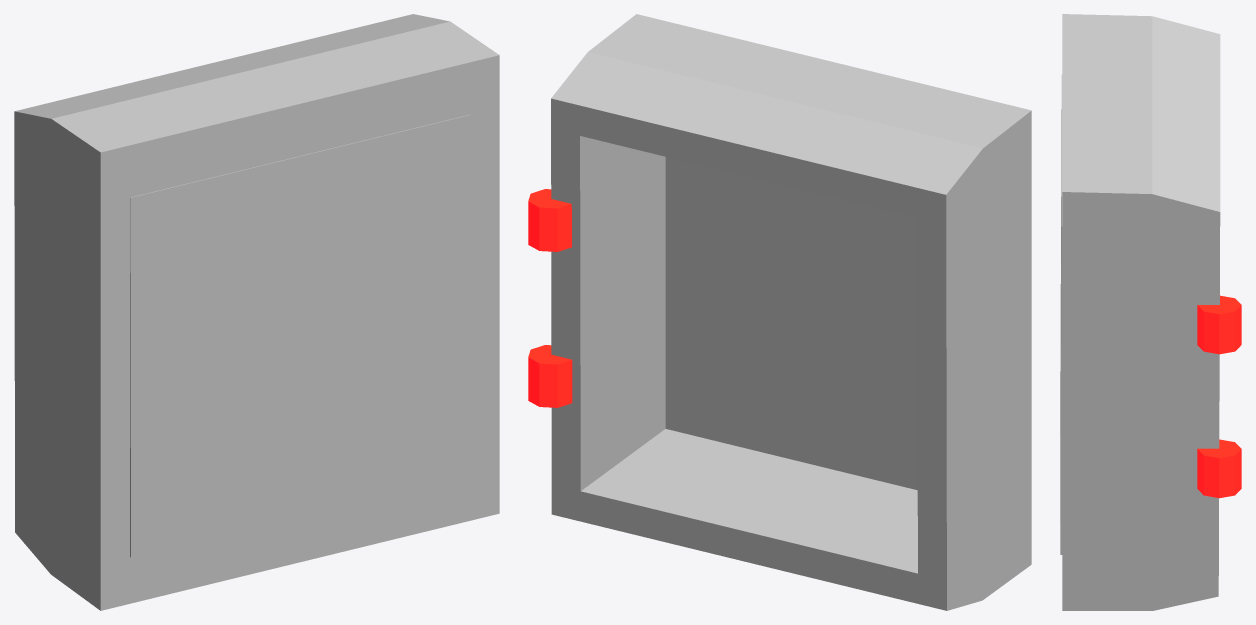
File: cabinet.fbx
The picture shows the model from 3 angles, left to right: view 1: azimuth 30°, elevation 25°; view 2: azimuth 150°, elevation 25°; view 3: azimuth 270°, elevation 25°; orthographic projection. The views are drawn at different scales.
Parts seen in each view (by area): view 1: cabinet; view 2: cabinet; view 3: cabinet.
Part boxes in pixels (bbox=[...]): cabinet: bbox=[14, 14, 499, 610]; cabinet: bbox=[528, 14, 1031, 610]; cabinet: bbox=[1060, 14, 1241, 610].
Bounding box in the file's own units: 98.03 × 102 × 40.09.
